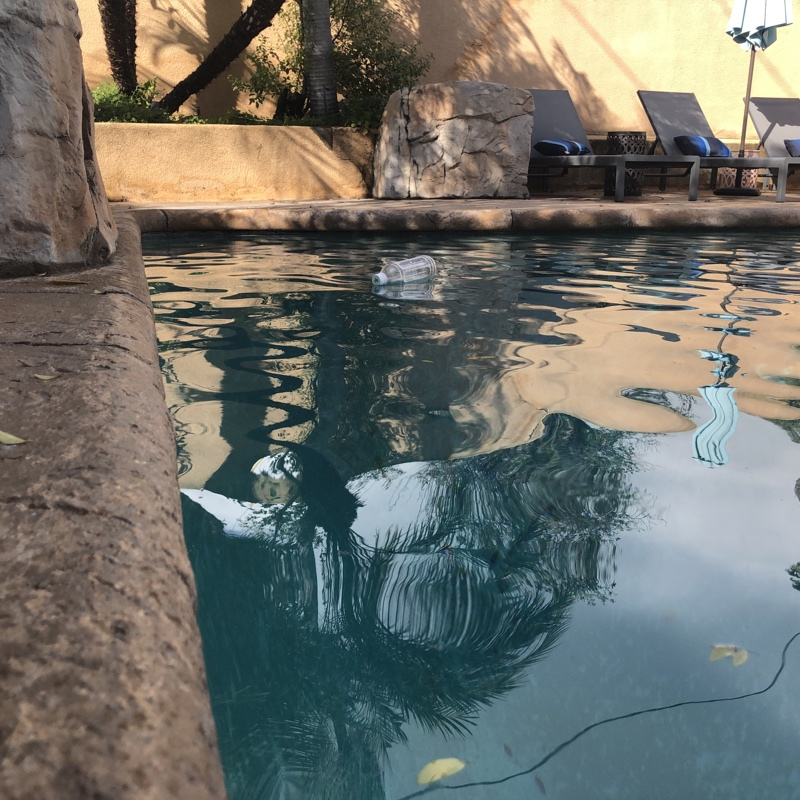Plastic Bottle: (367, 256, 441, 293)
